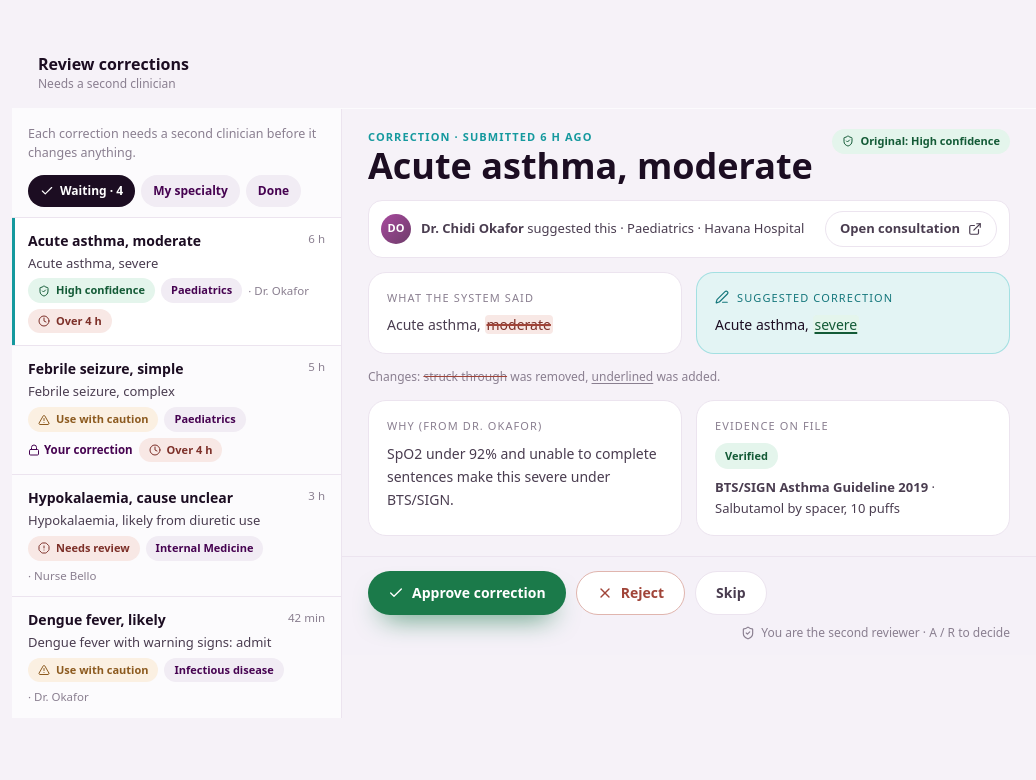
ReviewView › a failed send after you moved on leaves you where you are
Step 1. Click the button "Approve correction" → [467, 593], box 368,571 -> 566,615
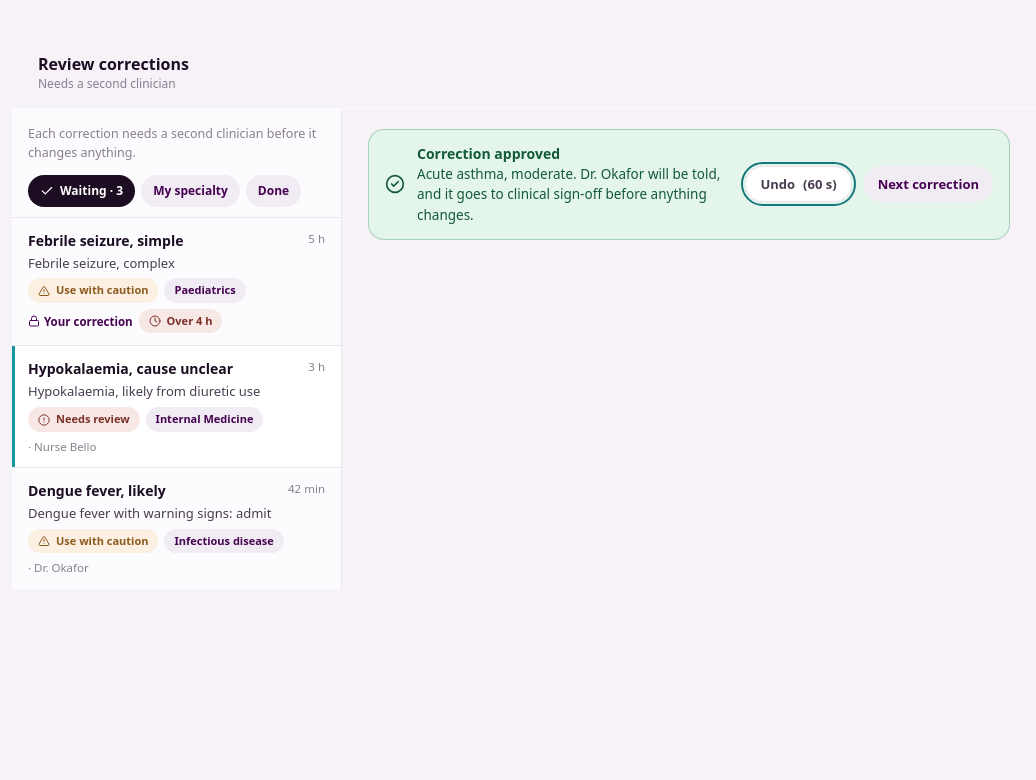
Step 2. Click the button "Next correction" → [928, 184], box 864,166 -> 993,202
Wait 6000 ms
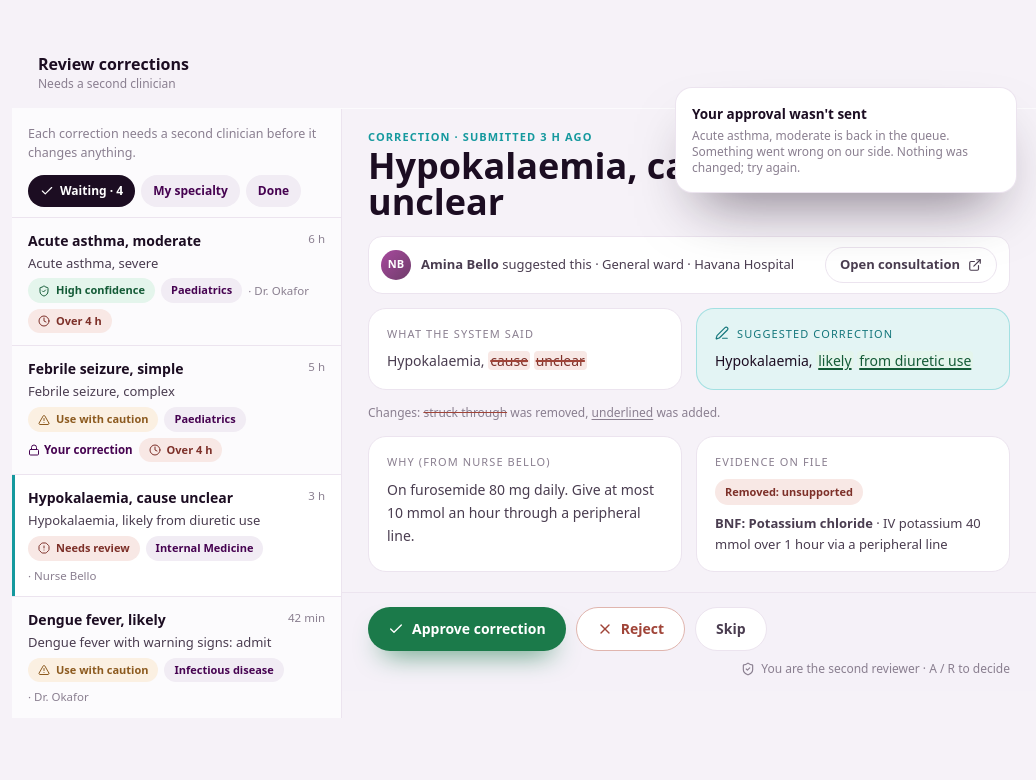
Check: the text "Your approval wasn't sent" is shown, box 692,105 -> 867,123
Check: the text "Acute asthma, moderate is back in the queue" is shown, box 692,127 -> 968,176
Check: the heading "Hypokalaemia, cause unclear" is shown, box 368,140 -> 750,226
